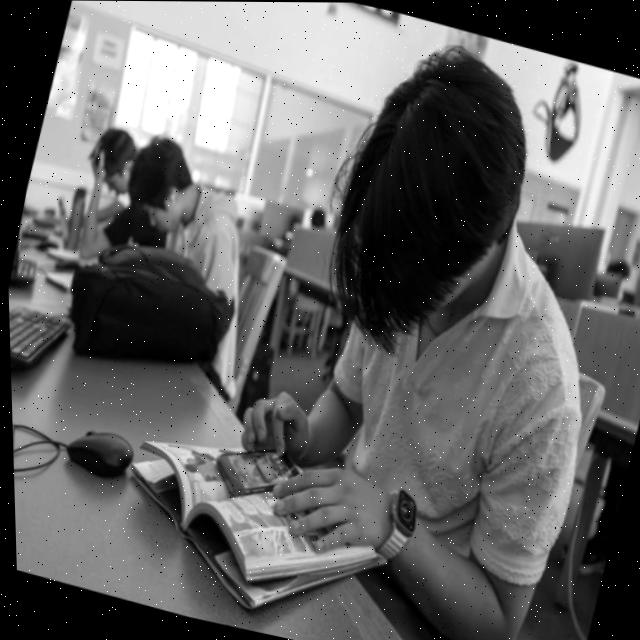phone: (202, 431, 307, 515)
